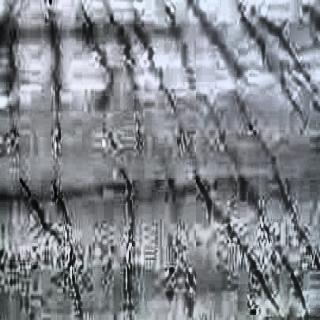alligator-crack: (8, 16, 311, 306)
